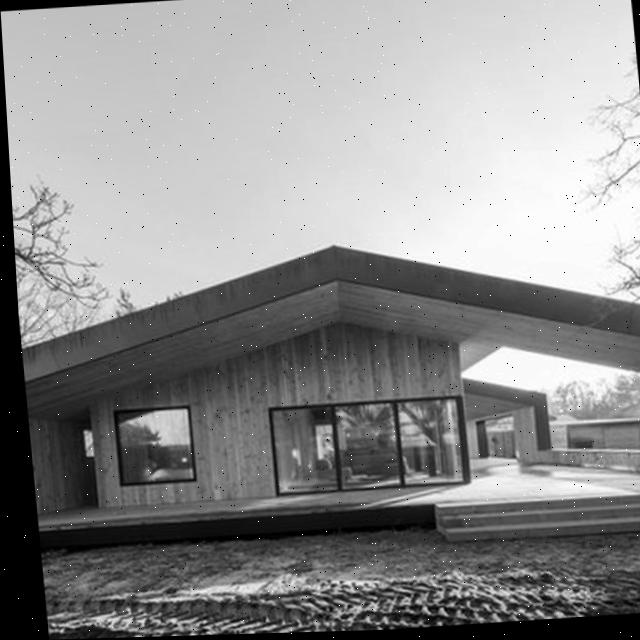building: (14, 221, 640, 560)
